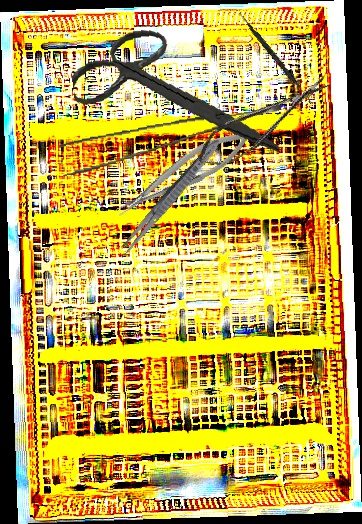Dressing Forceps: (114, 134, 225, 262)
Iris Scissors: (67, 13, 280, 180)
Micro Scissor: (189, 69, 338, 176)
Needle Holder: (107, 119, 264, 223)
Spatula Surgical: (236, 12, 315, 104)
Tissue Forceps: (57, 104, 287, 177)
